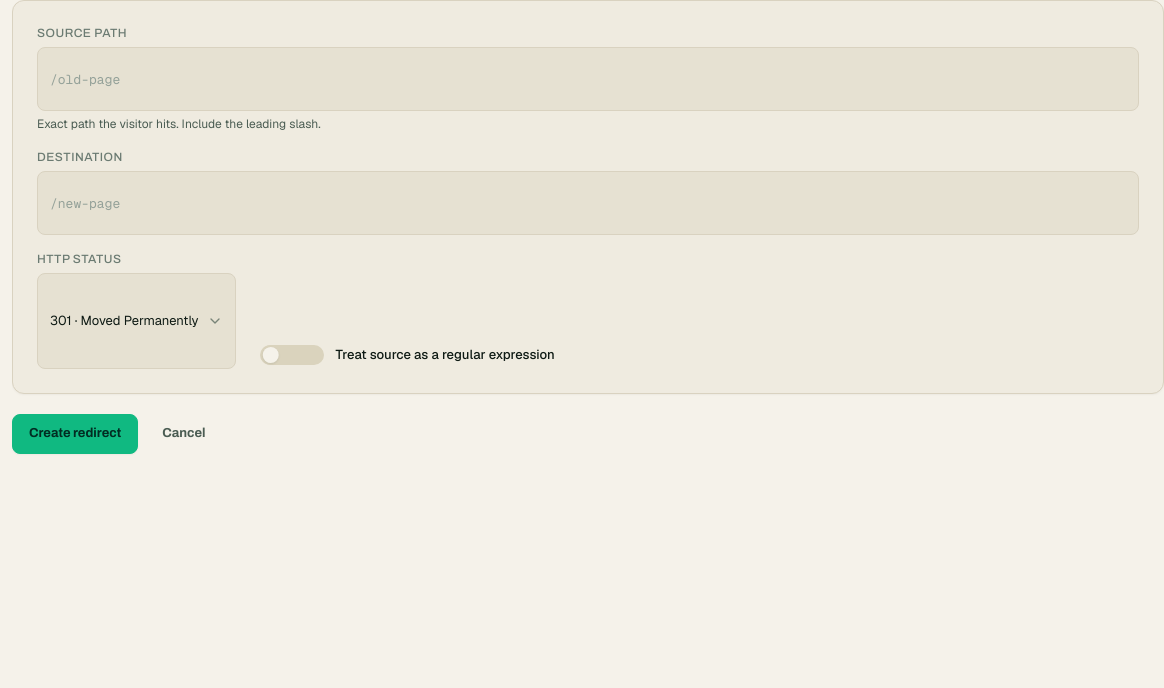
Test case: <RedirectForm> › hides the regex playground until the switch is toggled on
Click the switch with test id "regex-switch". click: (292, 355)
box: [260,345,324,365]
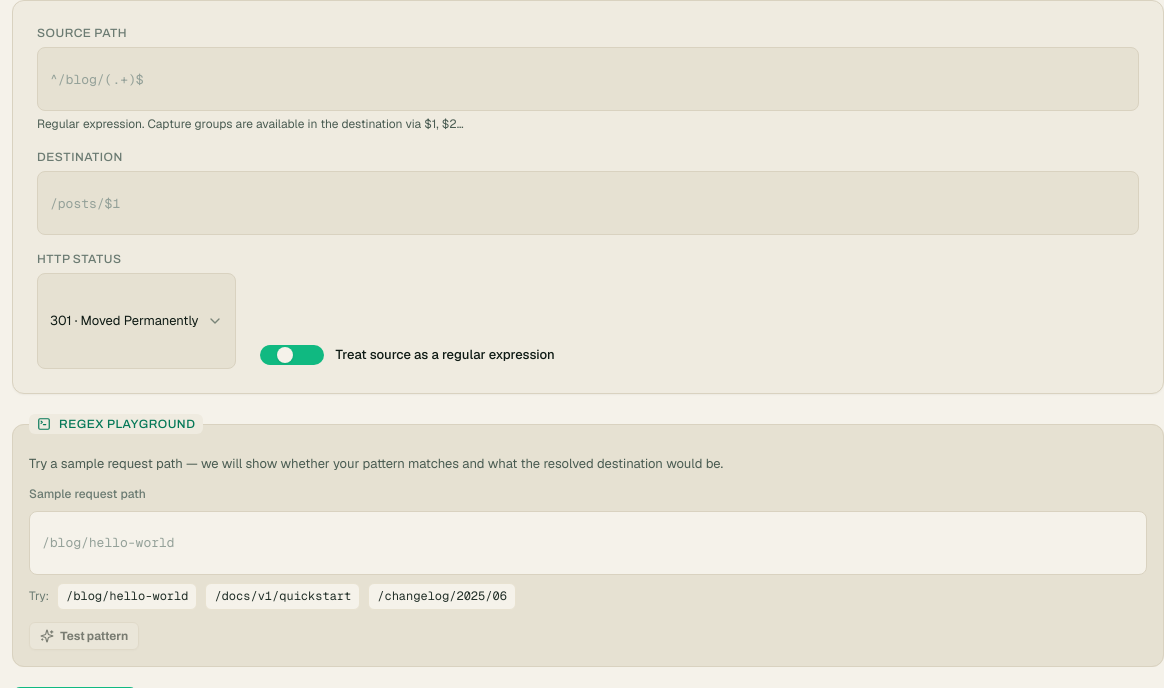
Expected: the element with test id "regex-playground" is shown, [12,414,1163,667]
